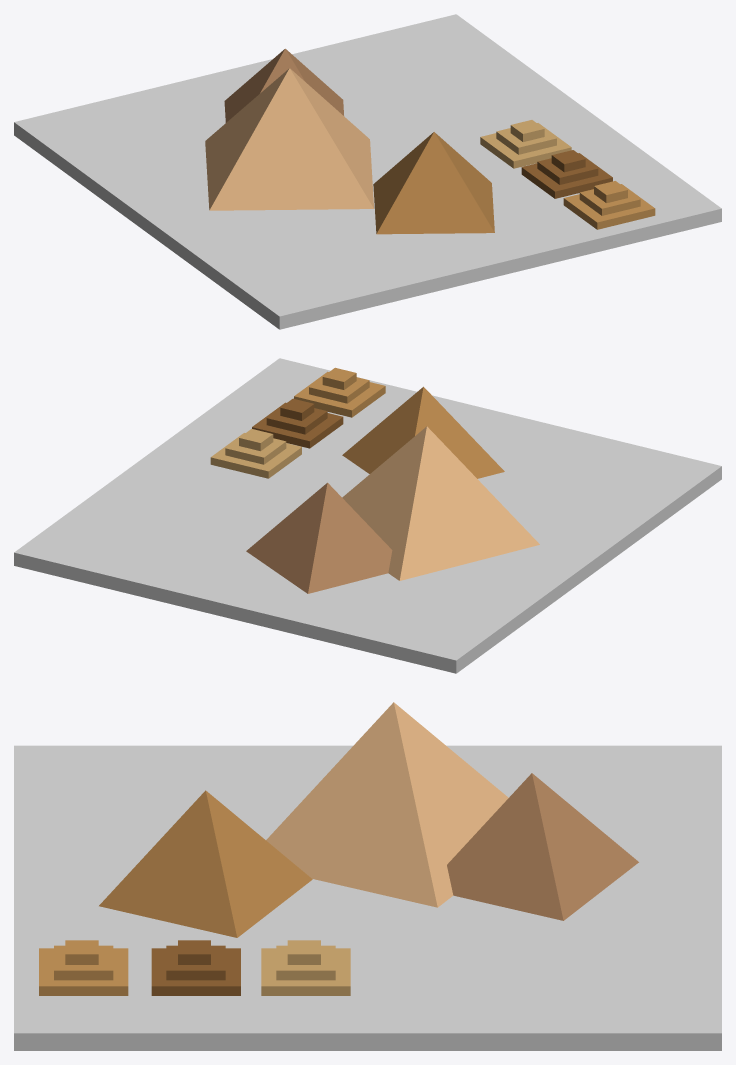
The picture shows the model from 3 angles, top to bottom: view 1: azimuth 30°, elevation 25°; view 2: azimuth 150°, elevation 25°; view 3: azimuth 270°, elevation 25°; orthographic projection. The views are drawn at different scales.
Visible parts, largest first — view 1: sandplane, bigp, firstp, bottom, bottom.001, bottom.002, lastp; view 2: sandplane, bigp, lastp, firstp, bottom.002, bottom, bottom.001; view 3: sandplane, bigp, firstp, lastp, bottom.002, bottom, bottom.001.
Part boxes in pixels (x1,y1,x2,y2): sandplane: [14, 14, 721, 329]; bigp: [205, 68, 373, 210]; firstp: [373, 132, 494, 234]; bottom: [563, 181, 655, 229]; bottom.001: [521, 150, 612, 198]; bottom.002: [480, 120, 571, 168]; lastp: [224, 48, 343, 122]; sandplane: [14, 358, 721, 673]; bigp: [342, 426, 539, 580]; lastp: [246, 482, 392, 593]; firstp: [342, 386, 504, 478]; bottom.002: [210, 429, 301, 478]; bottom: [294, 367, 385, 417]; bottom.001: [252, 398, 343, 448]; sandplane: [14, 745, 721, 1050]; bigp: [266, 702, 508, 907]; firstp: [99, 790, 312, 937]; lastp: [447, 773, 638, 920]; bottom.002: [261, 940, 350, 995]; bottom: [39, 940, 128, 995]; bottom.001: [151, 940, 240, 995].
Bounding box in the file's own units: 7.04 × 7.32 × 1.83.
